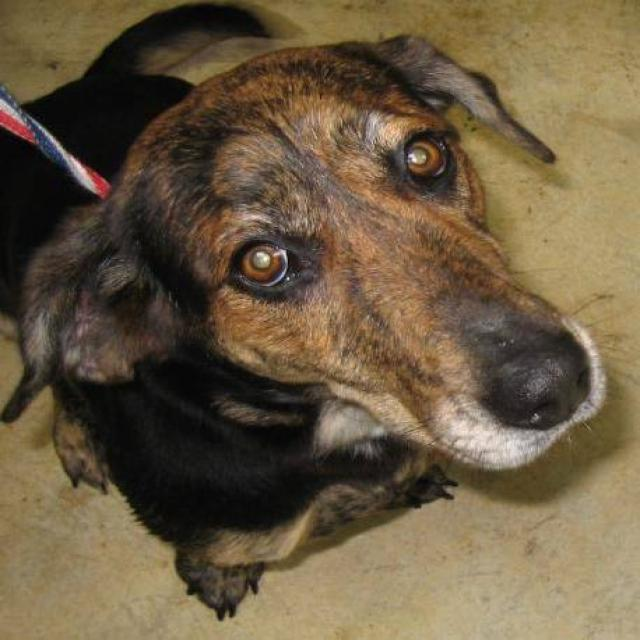dog: (0, 0, 611, 621)
